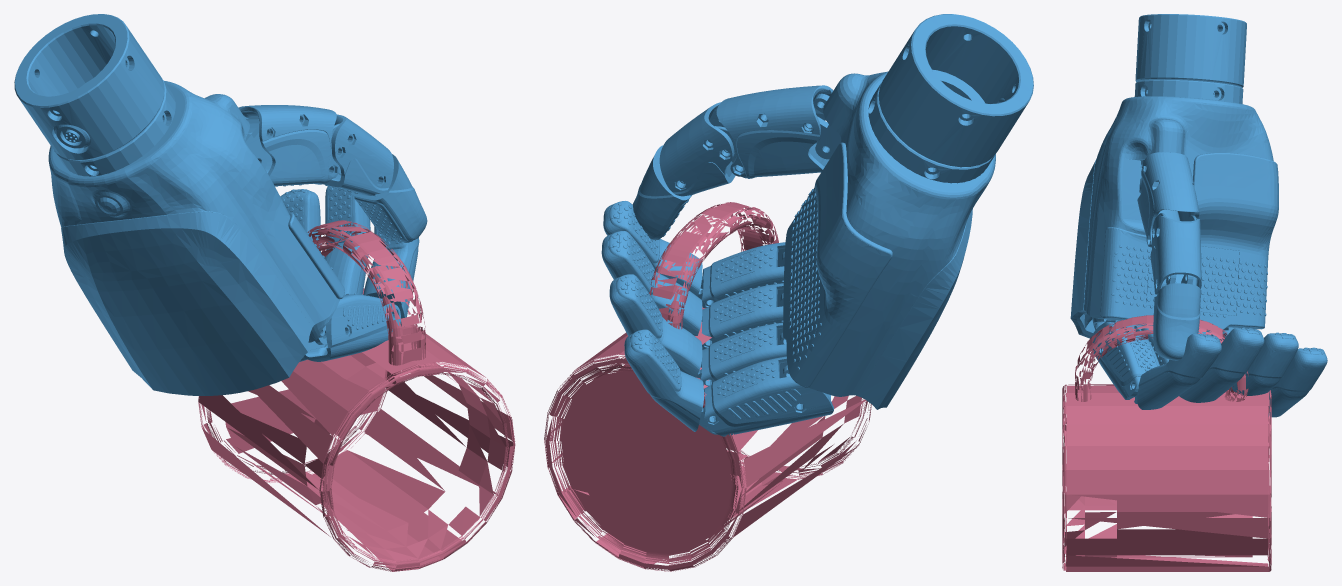
The picture shows the model from 3 angles, left to right: view 1: azimuth 30°, elevation 25°; view 2: azimuth 150°, elevation 25°; view 3: azimuth 270°, elevation 25°; orthographic projection. The views are drawn at different scales.
Visible parts, largest first — view 1: 0; view 2: 0; view 3: 0.
Part boxes in pixels (bbox=[...]): 0: bbox=[14, 14, 515, 571]; 0: bbox=[544, 14, 1033, 571]; 0: bbox=[1062, 14, 1327, 571].
Size of the model in its own units: 0.1845 by 0.2327 by 0.122.
